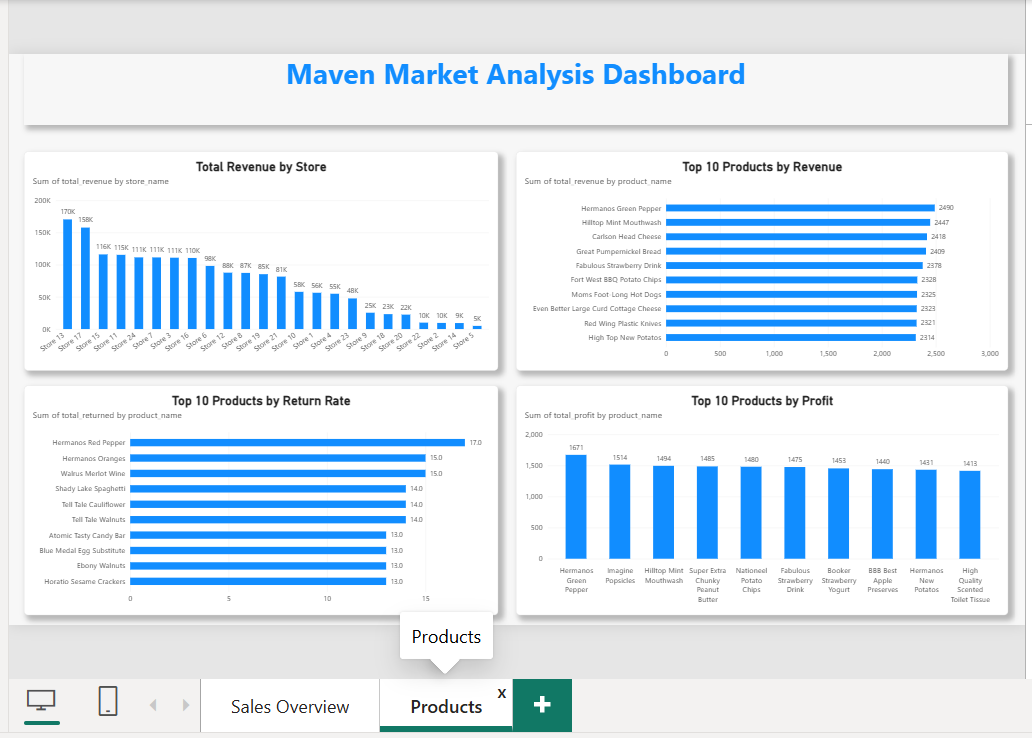

What the dashboard file says about the page in this screenshot:
{"tool":"powerbi","page":{"name":"Products","canvas":[1920,1080],"ordinal":1},"visuals":[{"type":"columnChart","title":"Total Revenue by Store","fields":{"Category":["maven_market revenue_by_store.store_name"],"Y":["Sum(maven_market revenue_by_store.total_revenue)"]},"box":[28.3,184.3,895.8,413.9],"z":0},{"type":"columnChart","title":"Top 10 Products by Profit","fields":{"Category":["maven_market top_products_profit.product_name"],"Y":["Sum(maven_market top_products_profit.total_profit)"]},"box":[958.1,626.5,929.8,433.7],"z":1},{"type":"barChart","title":"Top 10 Products by Revenue","fields":{"Category":["maven_market top_products_revenue.product_name"],"Y":["Sum(maven_market top_products_revenue.total_revenue)"]},"box":[958.1,184.3,929.8,413.9],"z":2},{"type":"clusteredBarChart","title":"Top 10 Products by Return Rate","fields":{"Category":["maven_market product_return_rate.product_name"],"Y":["Sum(maven_market product_return_rate.total_returned)"]},"box":[28.3,626.5,895.8,433.7],"z":3},{"type":"textbox","box":[28.3,0,1859.5,133.2],"z":4}]}

Visuals, with their boxes on the page's 1920x1080 design canvas (x1, y1, x2, y2). These are canvas units, not pixel positions in the 1032x738 screenshot, which may show the page scaled, cropped or inside an application window:
"Total Revenue by Store" columnChart: (28, 184, 924, 598)
"Top 10 Products by Profit" columnChart: (958, 626, 1888, 1060)
"Top 10 Products by Revenue" barChart: (958, 184, 1888, 598)
"Top 10 Products by Return Rate" clusteredBarChart: (28, 626, 924, 1060)
textbox: (28, 0, 1888, 133)
